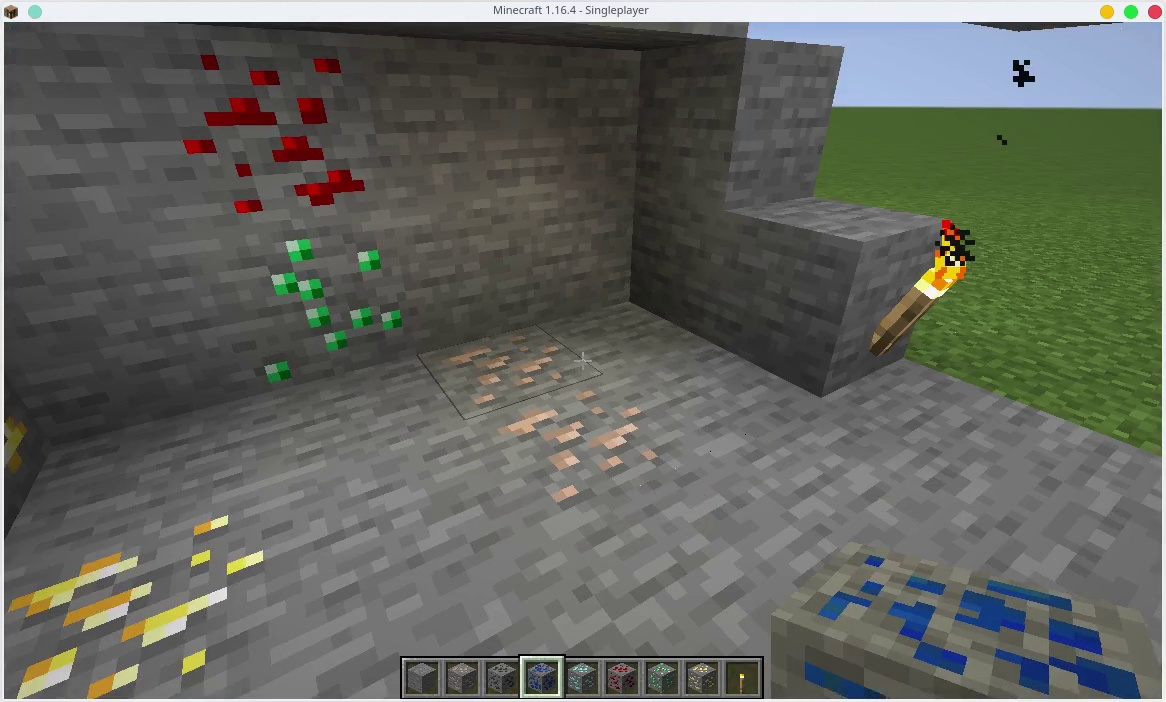gold: (13, 511, 291, 702), (686, 657, 717, 695)
